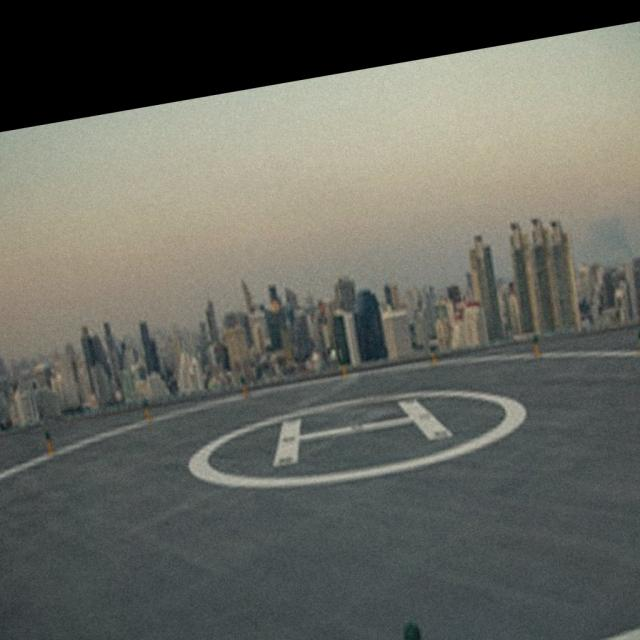helipad: (182, 387, 529, 492)
